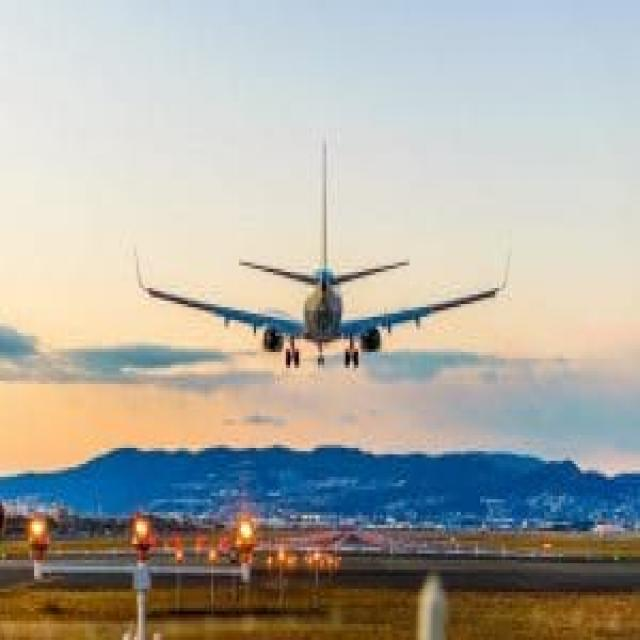plane: (142, 124, 503, 378)
